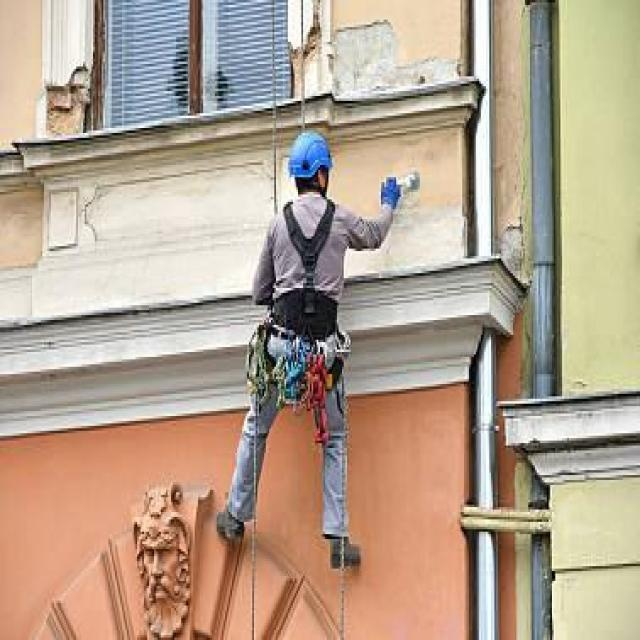Arnes_seguridad: (264, 190, 347, 350)
